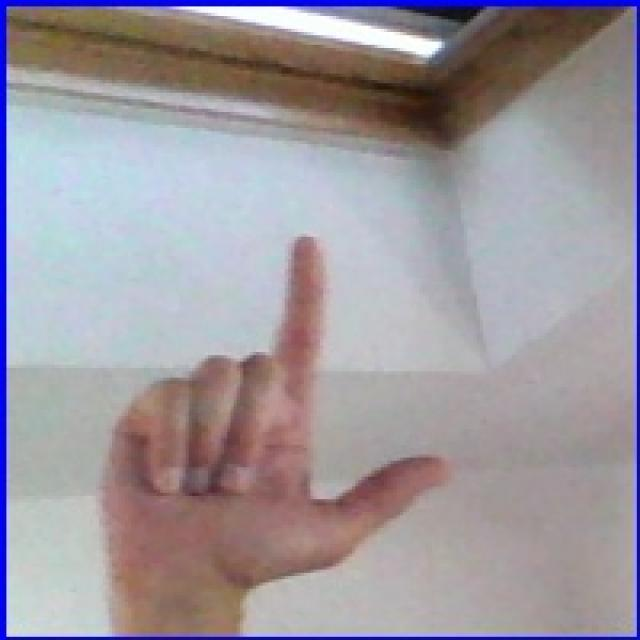Letra L: (73, 199, 467, 628)
